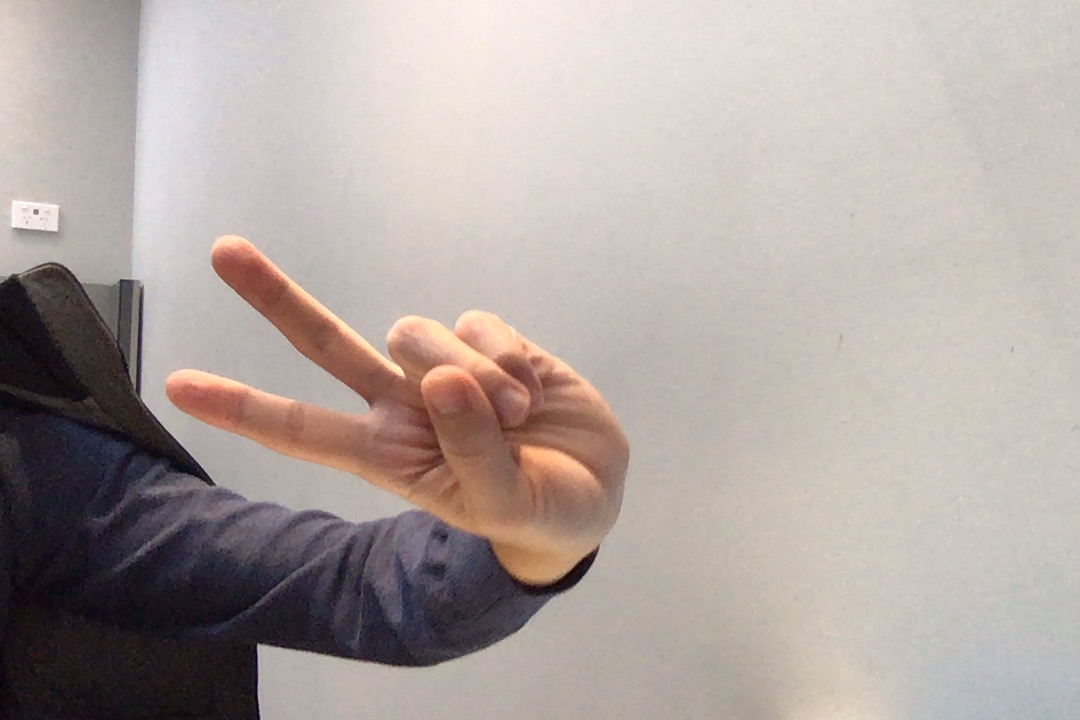peacesign: (156, 223, 647, 558)
